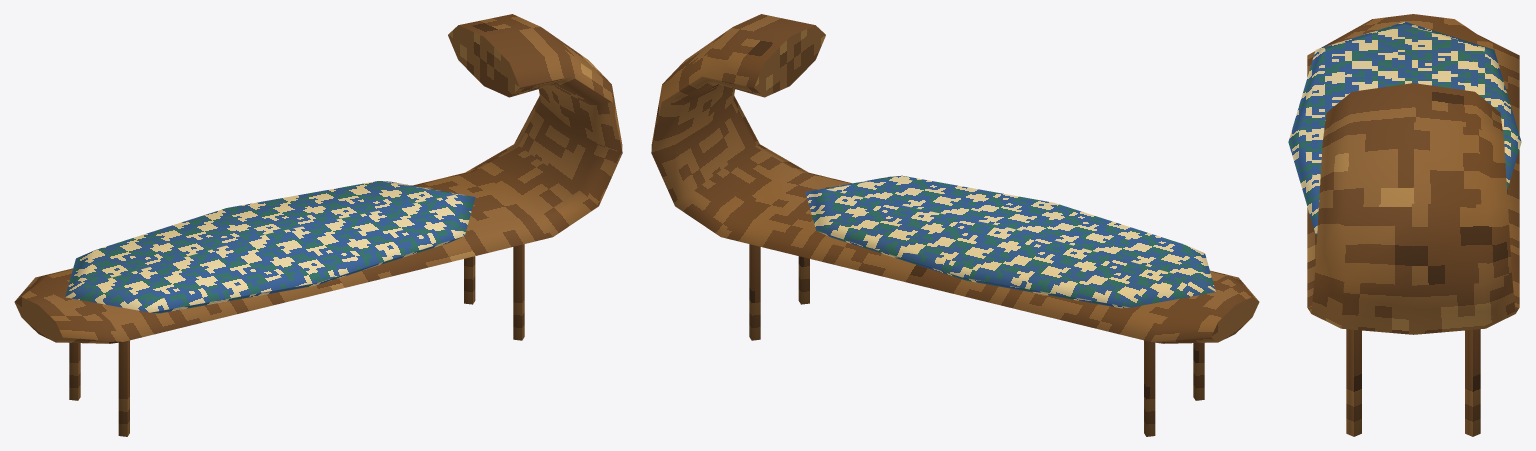
The model's file is furn.bench.glb.
3 renders of one model, left to right at view 1: azimuth 30°, elevation 25°; view 2: azimuth 150°, elevation 25°; view 3: azimuth 270°, elevation 25°, orthographic. The views are drawn at different scales.
Parts seen in each view (by area): view 1: kit_bench_body, kit_bench_throw, kit_bench_legs; view 2: kit_bench_body, kit_bench_throw, kit_bench_legs; view 3: kit_bench_body, kit_bench_throw, kit_bench_legs.
Part boxes in pixels (box(x1,y1,x2,y2)): kit_bench_body: box(14, 14, 622, 343); kit_bench_throw: box(65, 181, 475, 313); kit_bench_legs: box(69, 244, 524, 436); kit_bench_body: box(651, 14, 1259, 343); kit_bench_throw: box(805, 175, 1215, 308); kit_bench_legs: box(749, 244, 1204, 436); kit_bench_body: box(1307, 14, 1519, 334); kit_bench_throw: box(1288, 21, 1521, 234); kit_bench_legs: box(1346, 329, 1480, 436).
Size of the model in its own units: 2.2 by 1.08 by 0.66.
2 materials, 2 textured.
